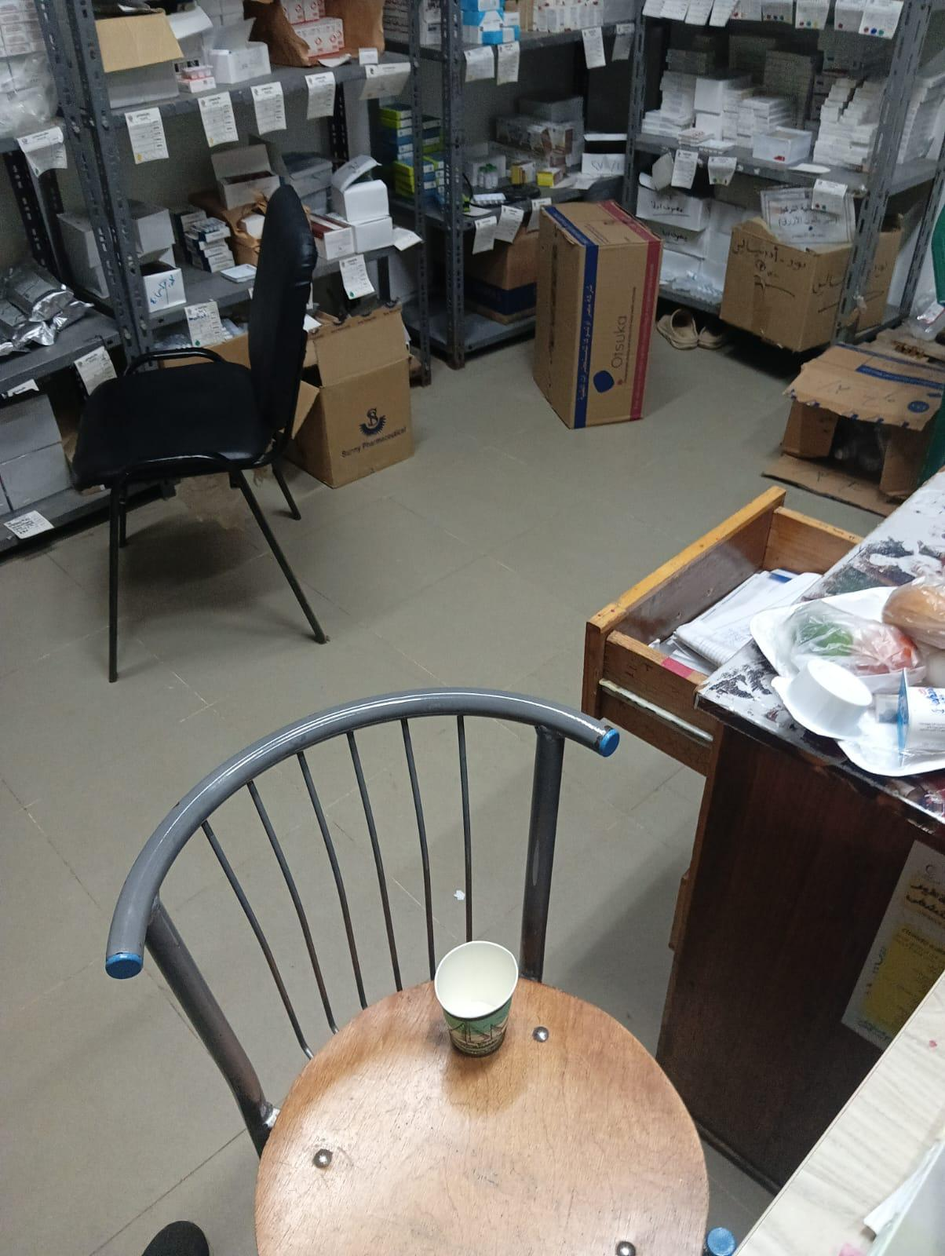cup: (434, 941, 517, 1055), (772, 659, 872, 739)
